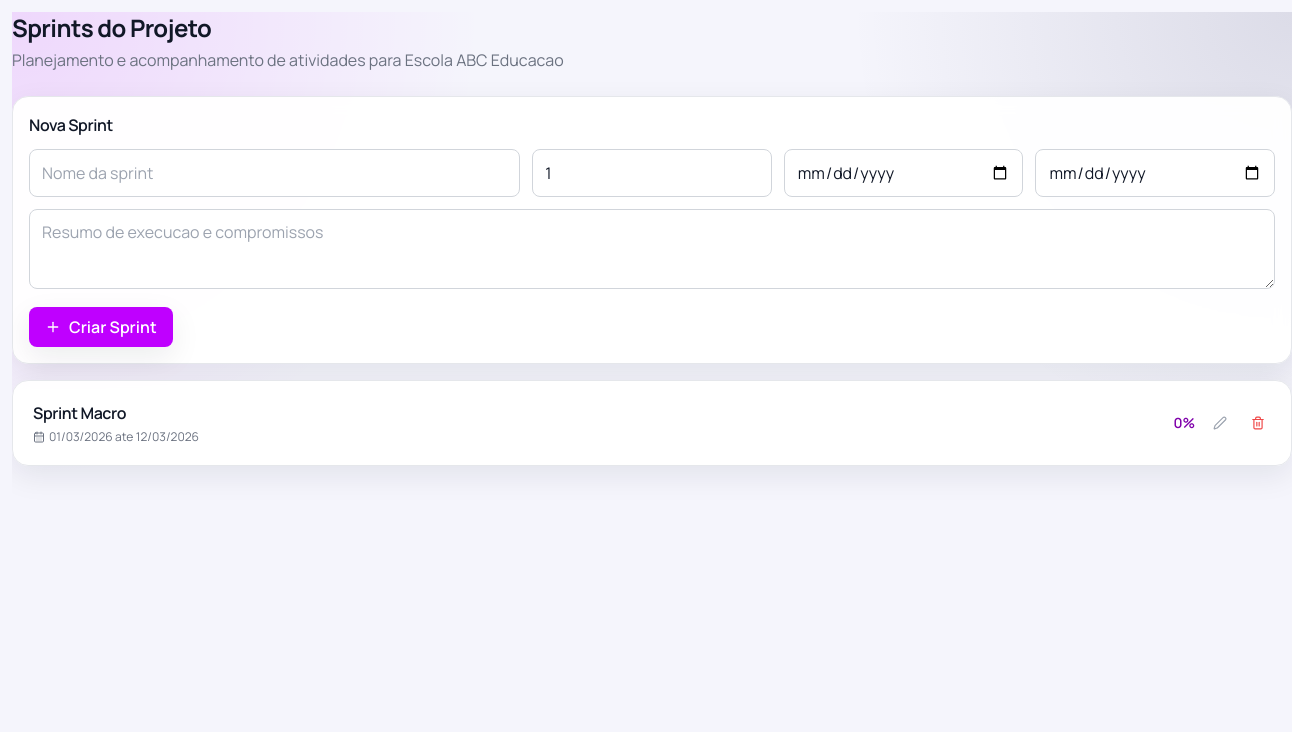
Test: Sprints — visao macro › abre formulario de edicao de sprint ao clicar no icone de edicao
Expected: the heading "Sprint Macro" is shown, [33,402,126,424]
Click the button named "Editar sprint" at (1220, 423), box [1207,410,1233,436]
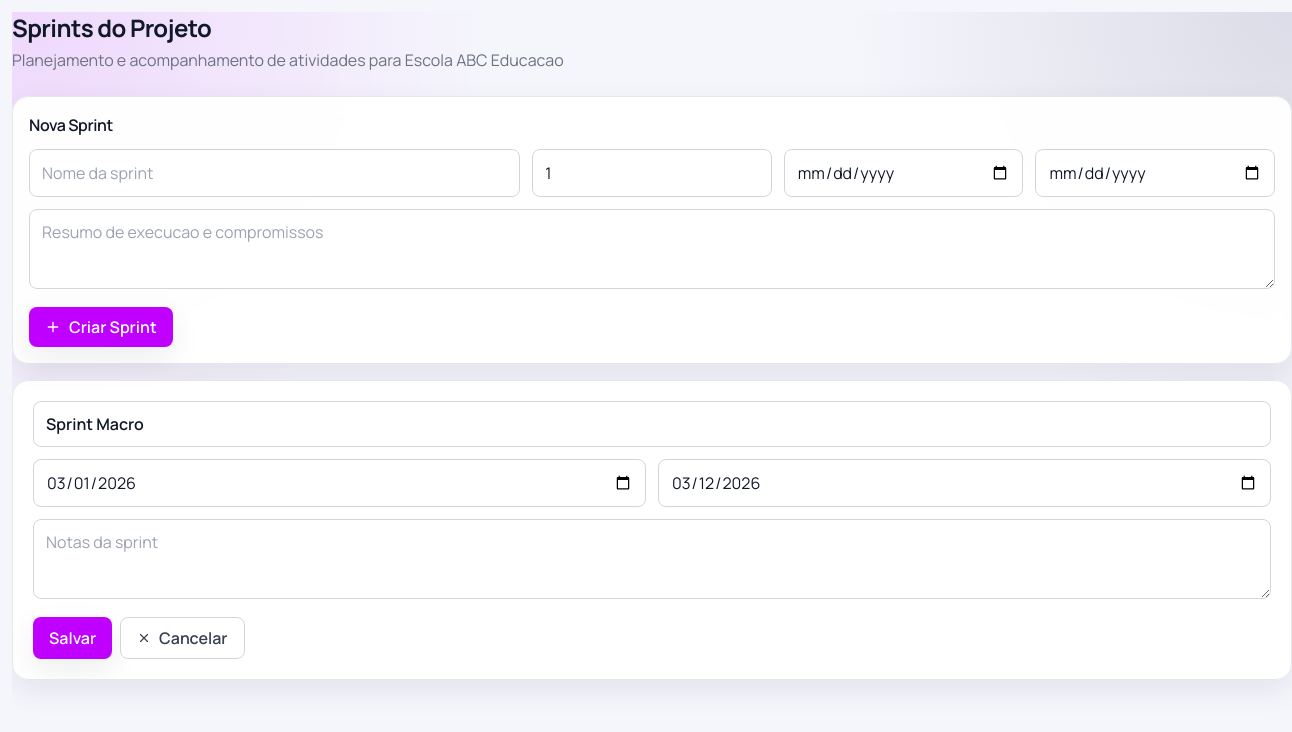
Result: the field with placeholder "Editar nome da sprint" is shown at [33,401,1271,447]
Result: the button "Salvar" is shown at [33,617,112,659]
